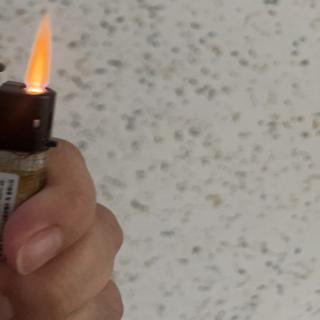fire: (22, 22, 52, 89)
